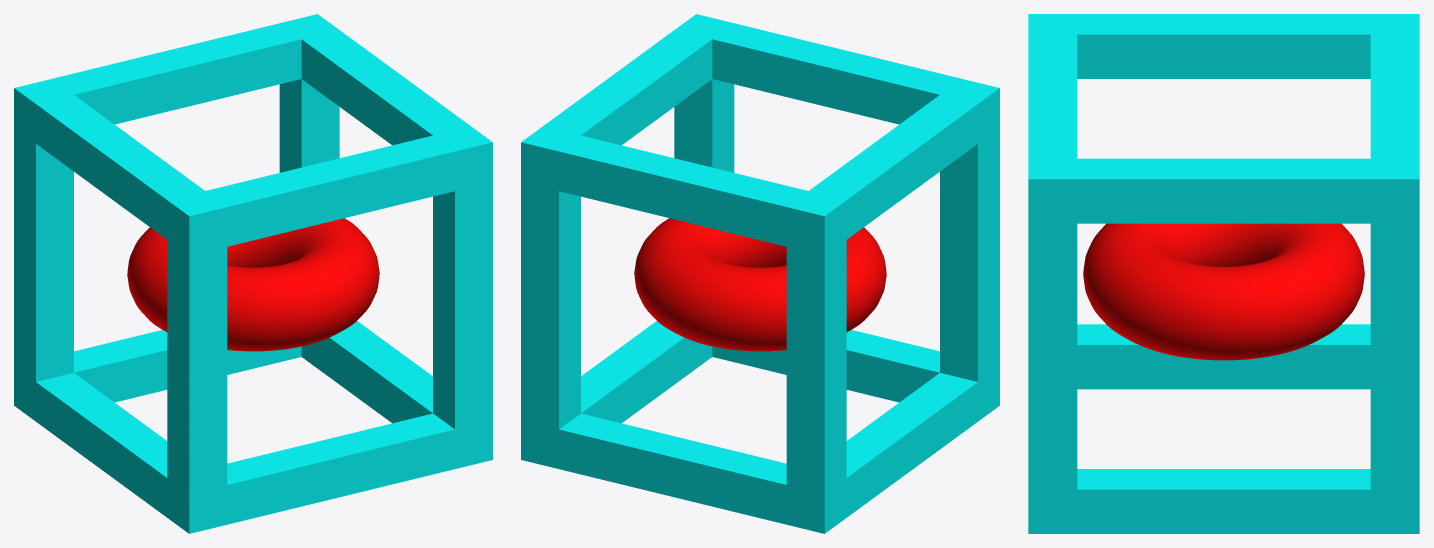
The picture shows the model from 3 angles, left to right: view 1: azimuth 30°, elevation 25°; view 2: azimuth 150°, elevation 25°; view 3: azimuth 270°, elevation 25°; orthographic projection. The views are drawn at different scales.
Visible parts, largest first — view 1: Cube, Torus; view 2: Cube, Torus; view 3: Cube, Torus.
Boxes of the visible parts, left/top/right/bottom form: Cube: left=14, top=14, right=492, bottom=533; Torus: left=127, top=218, right=379, bottom=351; Cube: left=521, top=14, right=999, bottom=533; Torus: left=634, top=218, right=886, bottom=351; Cube: left=1028, top=14, right=1419, bottom=533; Torus: left=1083, top=223, right=1364, bottom=360.
Size of the model in its own units: 1 by 1 by 1.
